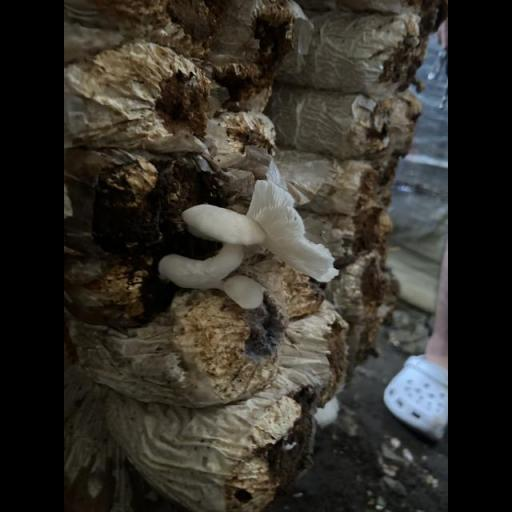White Oyster Mushroom: (139, 170, 355, 315)
